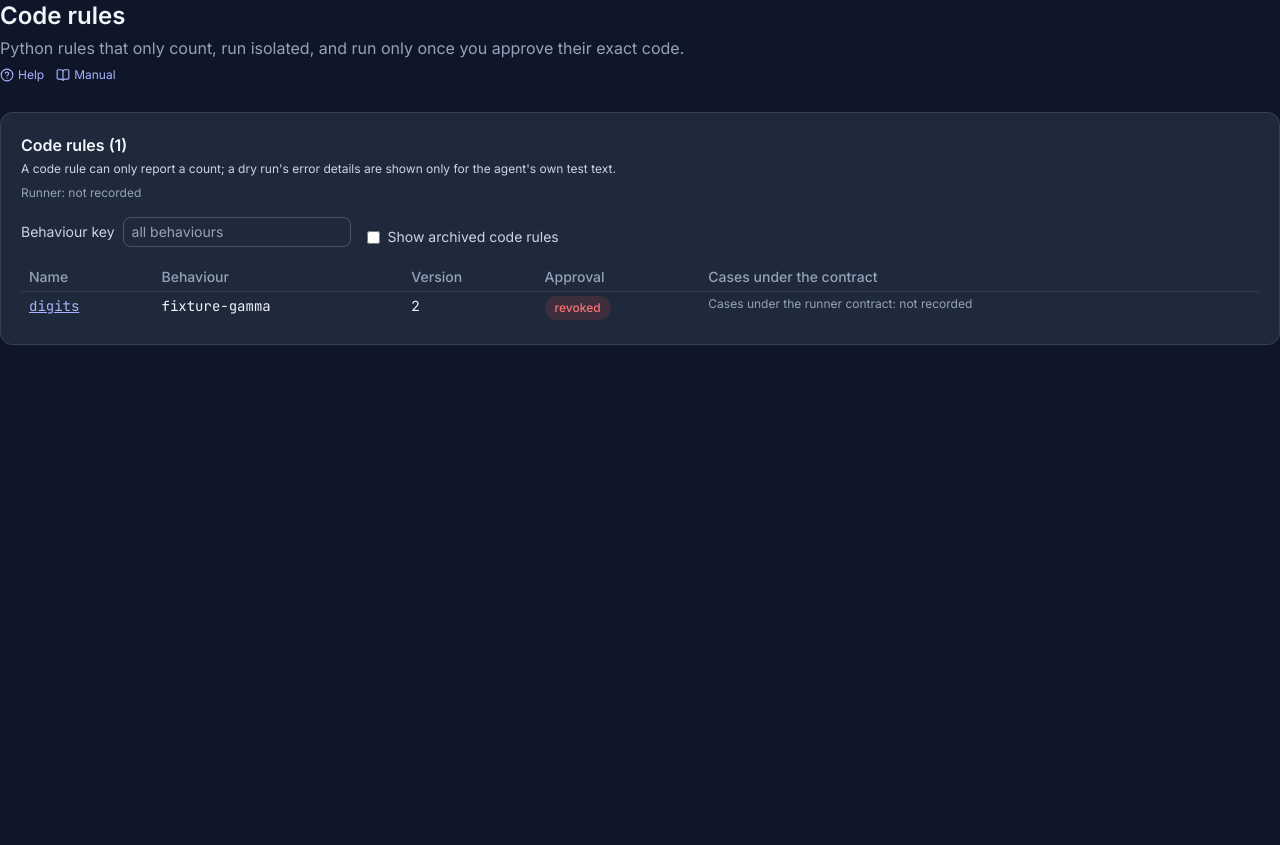
it: Approve again › a failing case (409 code_rule_case_failed) says which case and that nothing changed
The image size is (1280, 845).
Click the button "digits" at (54, 306), box [29,296,79,316]
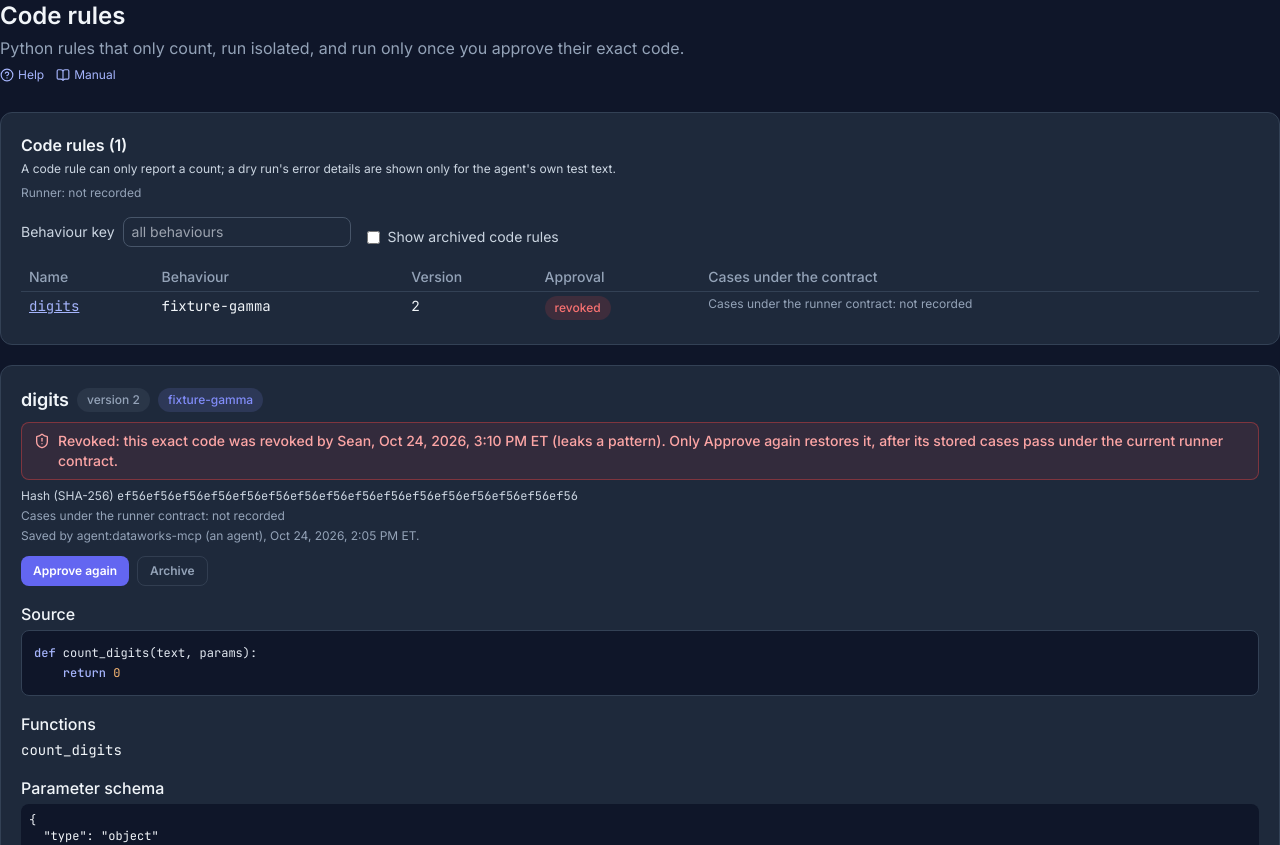
Expected: the element with test id "code-rule-state" shows "Oct 24, 2026, 3:10 PM ET", [313,432,548,449]
Click the button with test id "code-rule-approve-again" at (75, 571), box [21,556,129,586]
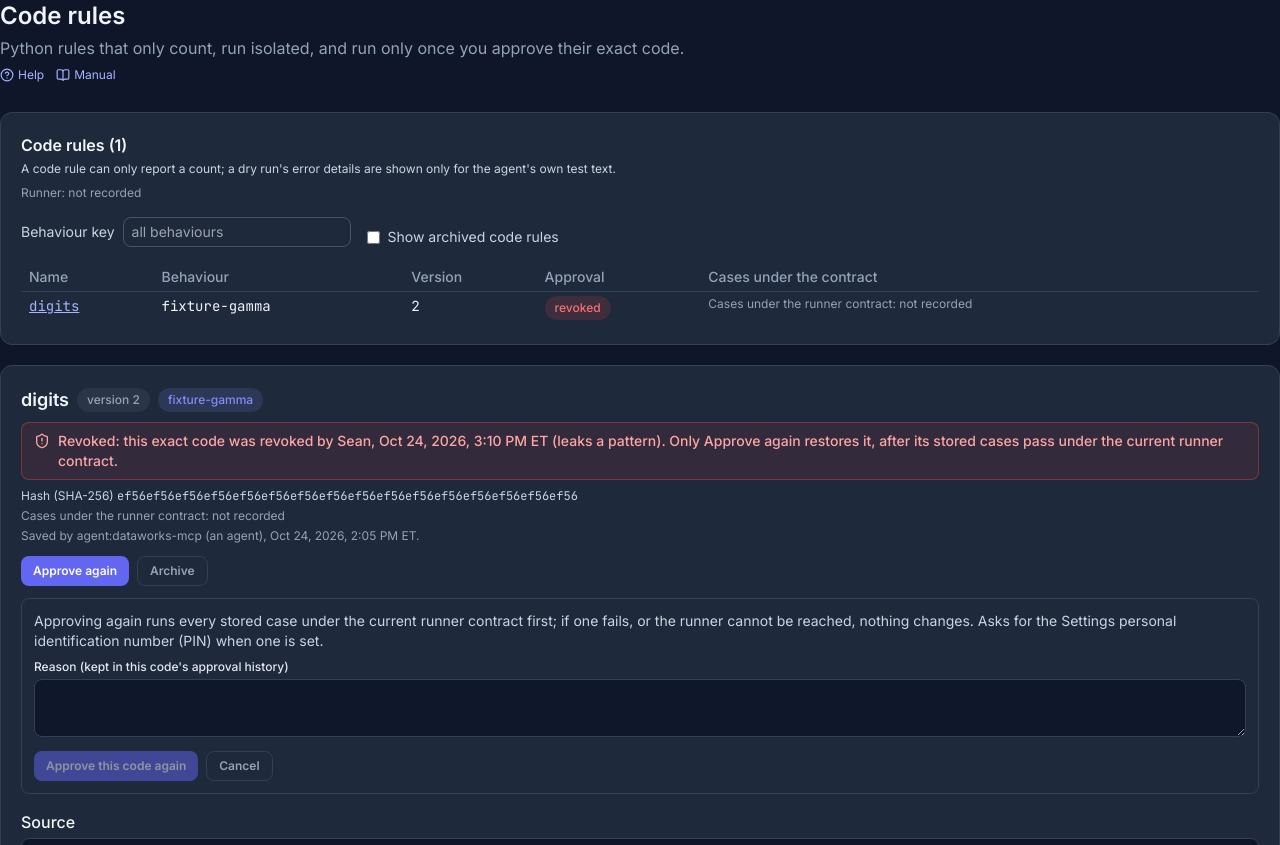
Type "fixed upstream" into the text box labelled "Reason (kept in this code's approval history)" at (640, 708), box [34,679,1246,737]
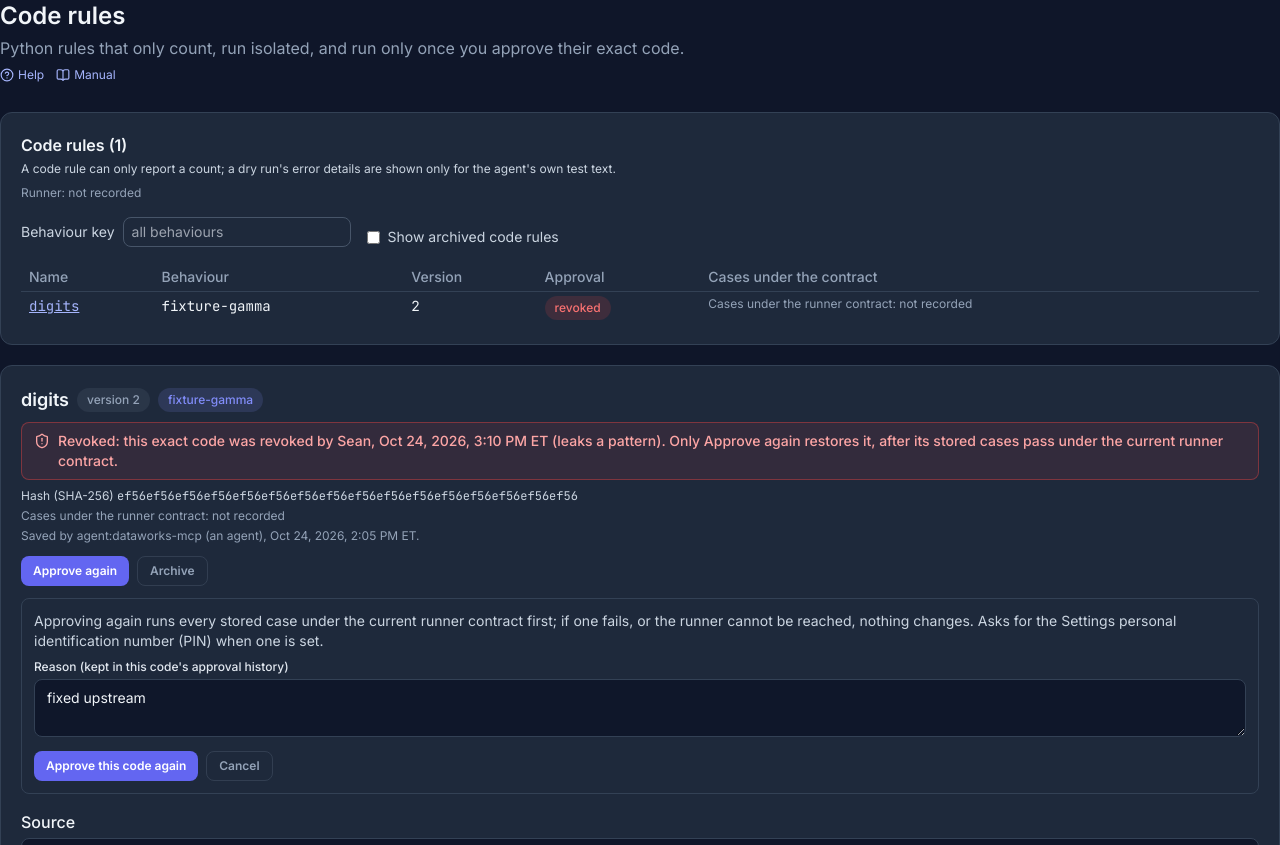
Click the button "Approve this code again" at (116, 766), box [34,751,198,781]
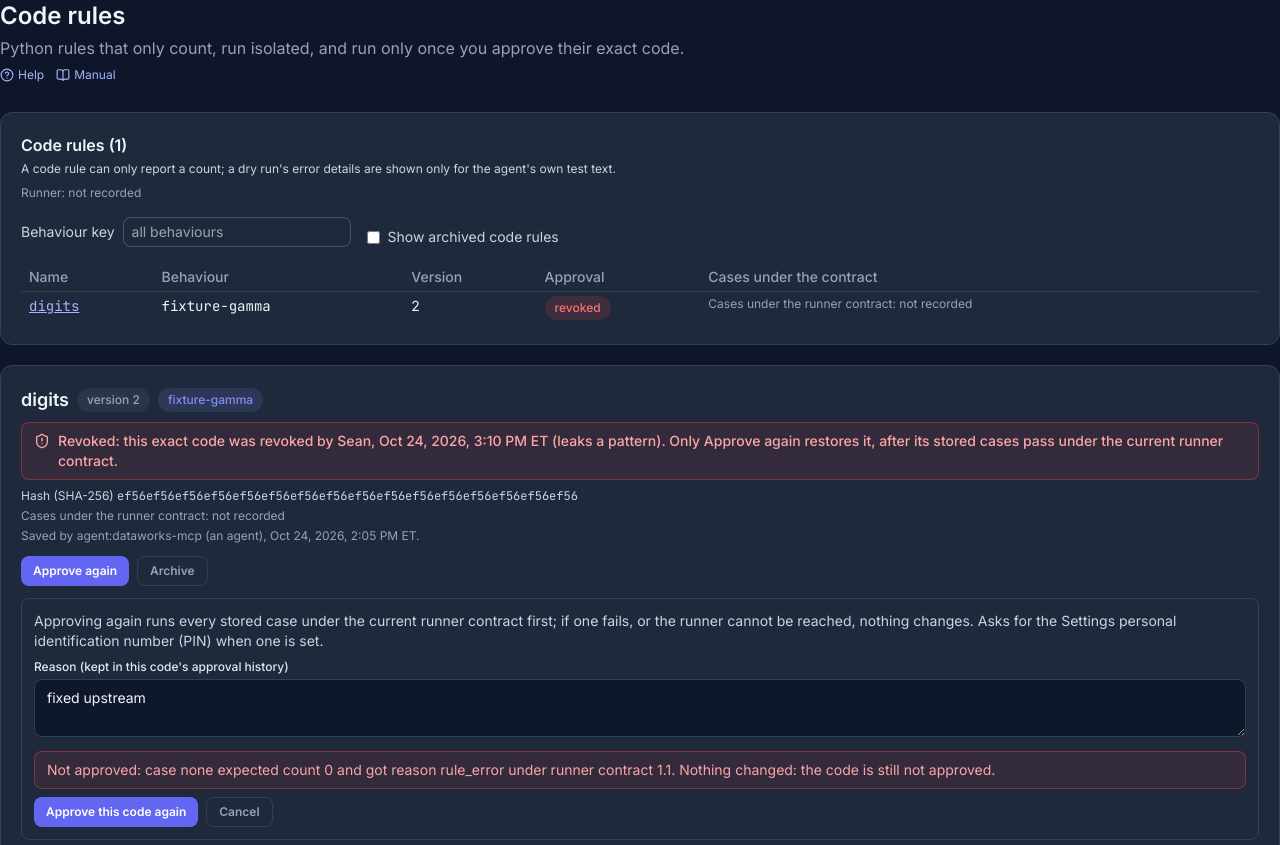
Expected: the message with test id "code-rule-refusal" shows "Not approved: case none expected count 0 and got reason rule_error under runner contract 1.1. Nothing changed: the code is still not approved.", [47,761,995,778]
